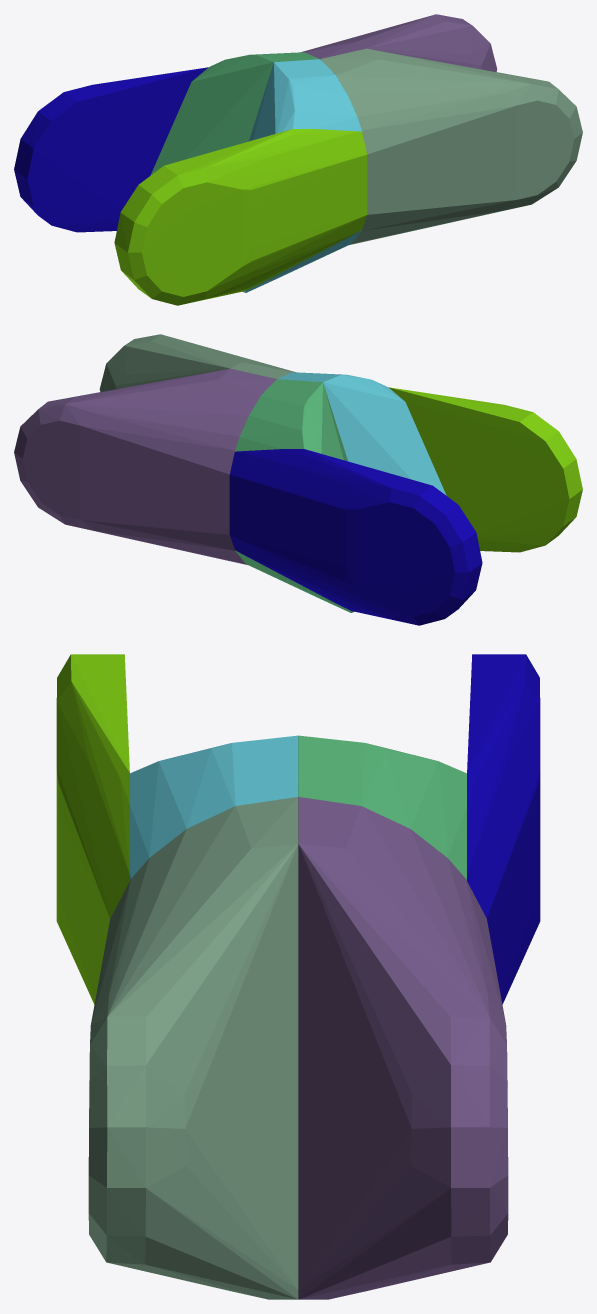
3 renders of one model, top to bottom at view 1: azimuth 30°, elevation 25°; view 2: azimuth 150°, elevation 25°; view 3: azimuth 270°, elevation 25°, orthographic. The views are drawn at different scales.
Visible parts, largest first — view 1: geometry_0, geometry_4, geometry_5, geometry_3, geometry_2, geometry_1; view 2: geometry_1, geometry_5, geometry_4, geometry_2, geometry_3, geometry_0; view 3: geometry_1, geometry_0, geometry_5, geometry_4, geometry_3, geometry_2.
Boxes of the visible parts, x1,y1,x2,y2 form: geometry_0: (320, 48, 582, 244); geometry_4: (114, 129, 367, 305); geometry_5: (14, 67, 207, 232); geometry_3: (150, 52, 319, 175); geometry_2: (242, 59, 361, 292); geometry_1: (301, 14, 497, 71); geometry_1: (14, 368, 276, 564); geometry_5: (229, 449, 482, 625); geometry_4: (389, 387, 582, 552); geometry_2: (277, 372, 446, 495); geometry_3: (235, 379, 354, 612); geometry_0: (99, 334, 295, 391); geometry_1: (298, 797, 508, 1299); geometry_0: (88, 797, 298, 1299); geometry_5: (467, 654, 540, 1004); geometry_4: (56, 654, 129, 1004); geometry_3: (298, 735, 466, 880); geometry_2: (130, 735, 298, 880).
Bounding box in the file's own units: 0.0435 × 0.0169 × 0.0196.
